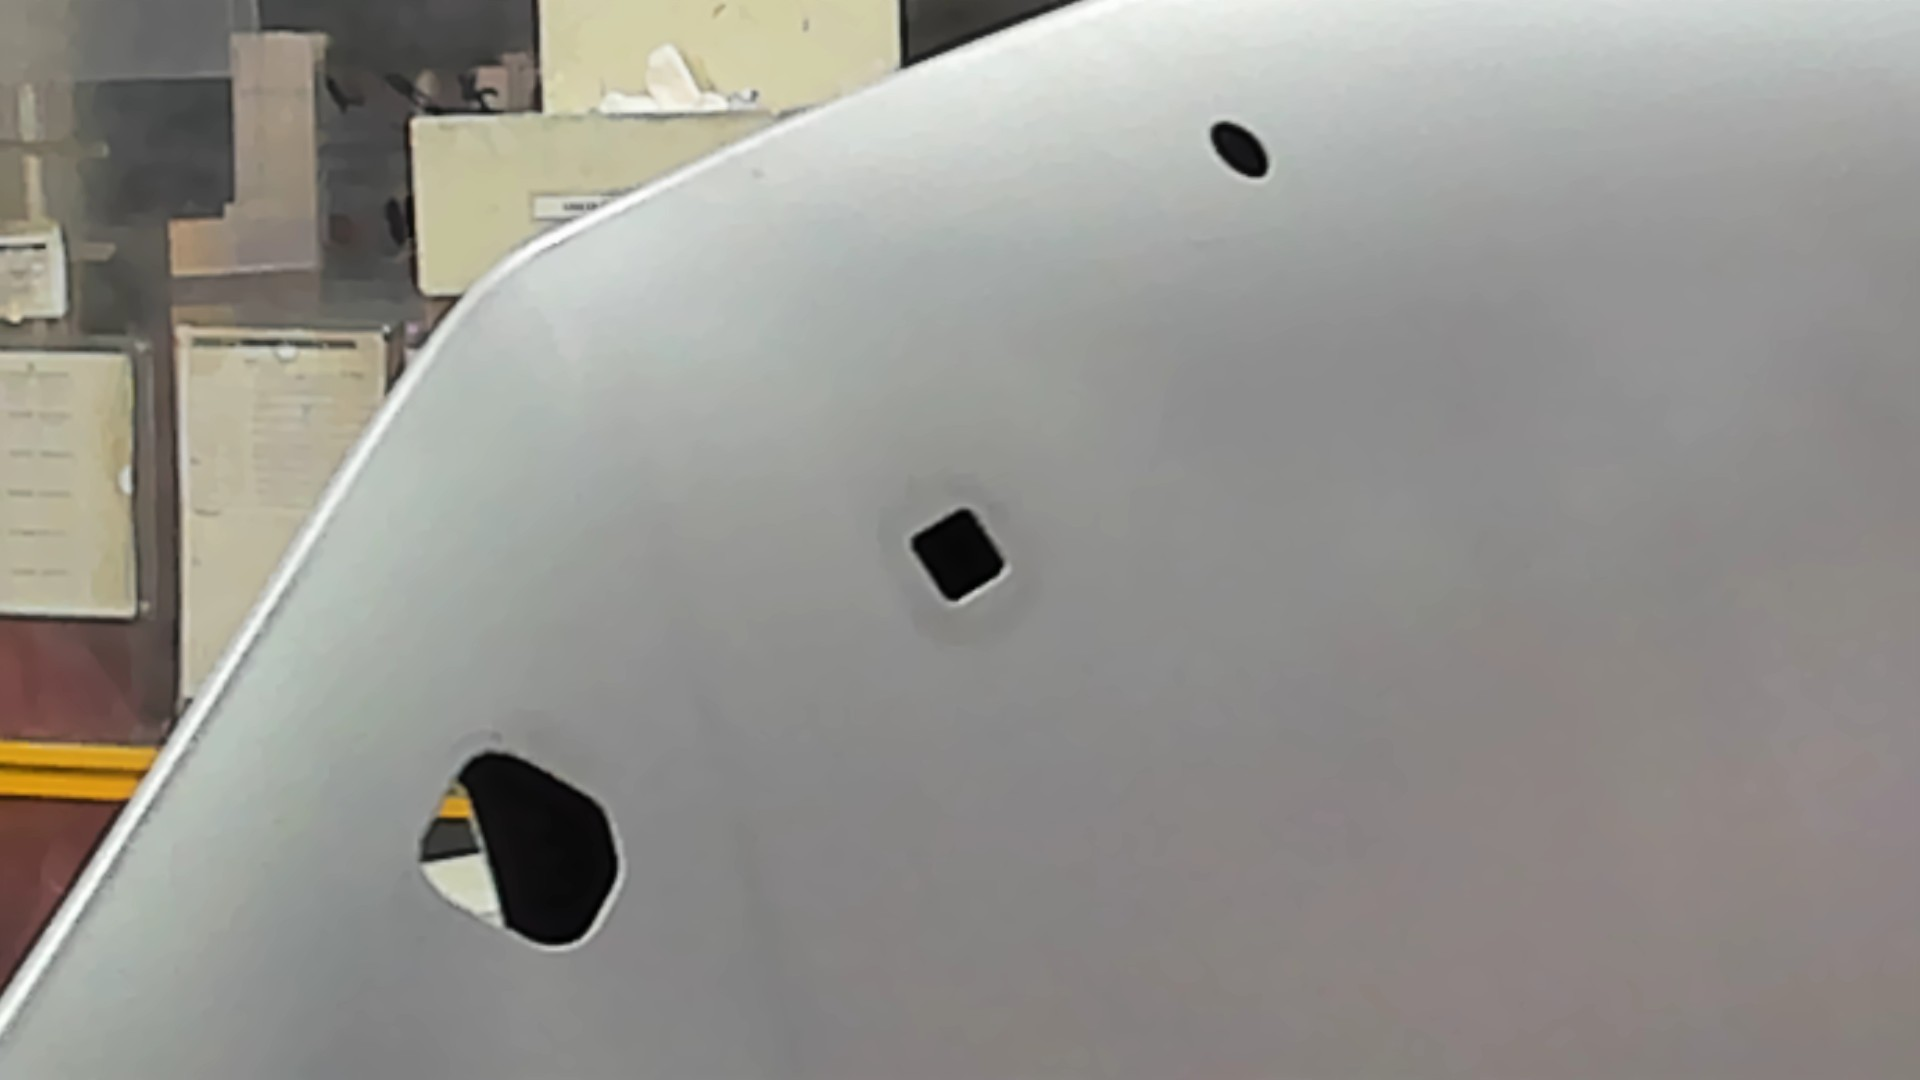chico: (1207, 113, 1275, 182)
grande: (418, 746, 625, 955)
mediano: (901, 504, 1013, 611)
